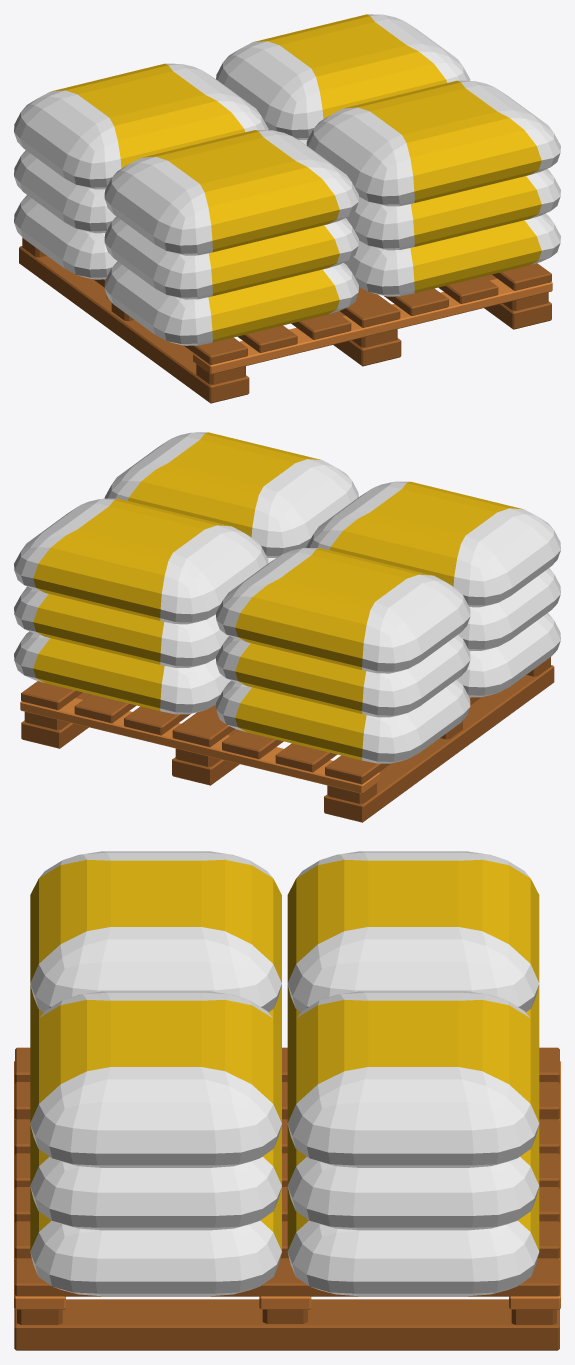
Rendered from Cement Bag B.glb.
The picture shows the model from 3 angles, top to bottom: view 1: azimuth 30°, elevation 25°; view 2: azimuth 150°, elevation 25°; view 3: azimuth 270°, elevation 25°; orthographic projection. The views are drawn at different scales.
Parts seen in each view (by area): view 1: Cement Bag B; view 2: Cement Bag B; view 3: Cement Bag B.
Part boxes in pixels (x1,y1,x2,y2): Cement Bag B: (14, 14, 560, 403); Cement Bag B: (14, 432, 560, 822); Cement Bag B: (14, 851, 560, 1350).
Bounding box in the file's own units: 280 × 126 × 232.
